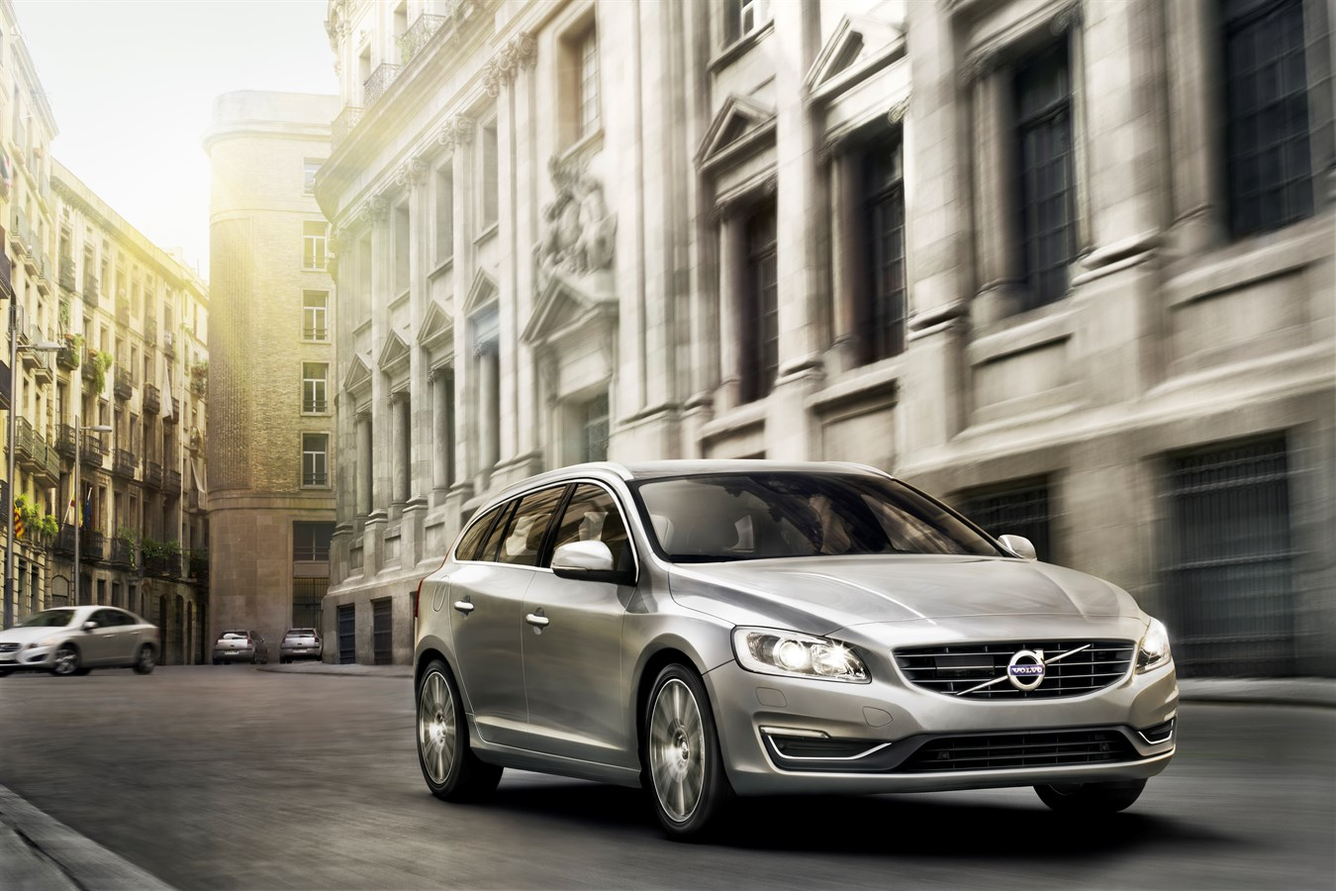other: (393, 446, 1183, 837), (0, 602, 170, 681), (278, 624, 336, 669), (210, 626, 262, 664)
